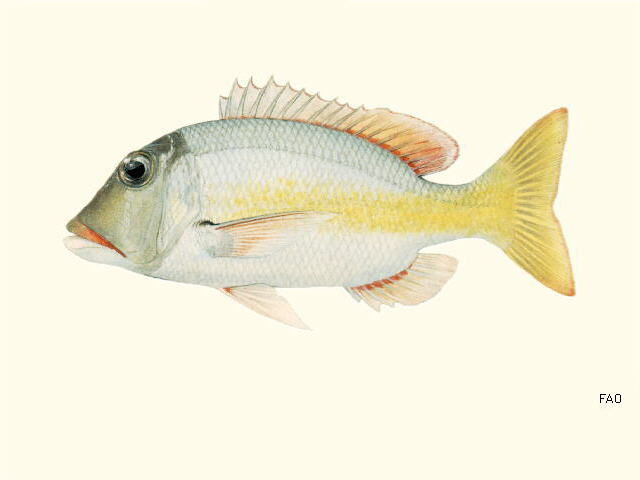fish: (64, 73, 578, 331)
